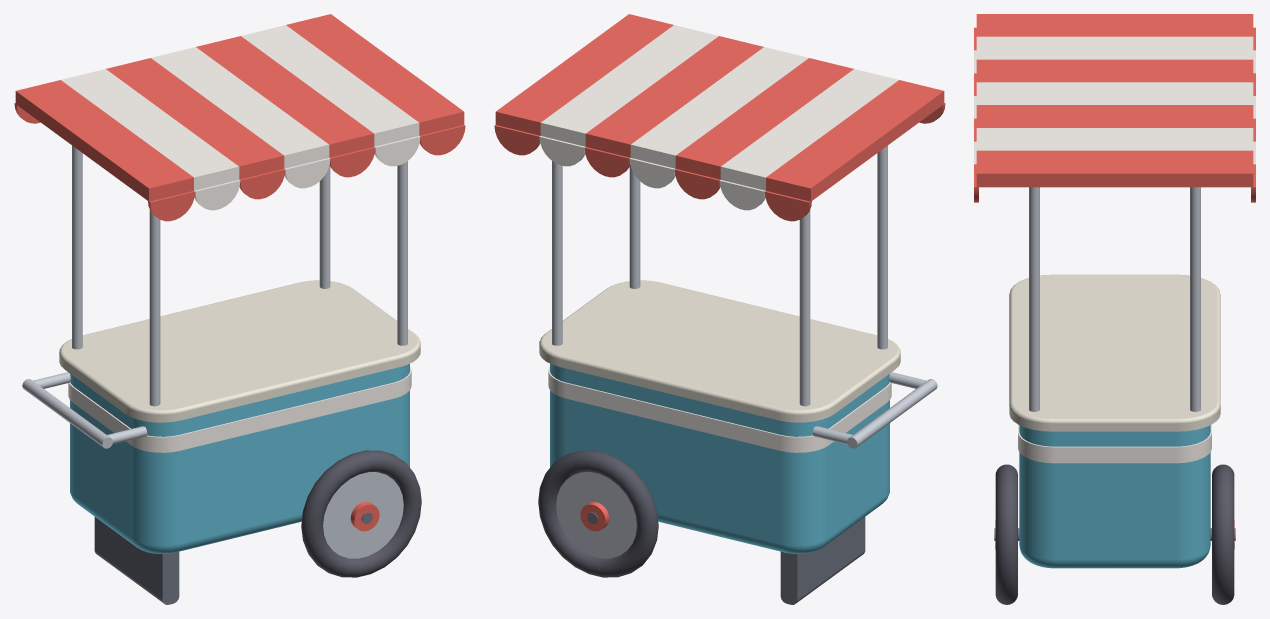
Rendered from TacoCart.glb.
3 views of the same model, side by side, from view 1: azimuth 30°, elevation 25°; view 2: azimuth 150°, elevation 25°; view 3: azimuth 270°, elevation 25° (orthographic). The views are drawn at different scales.
Visible parts, largest first — view 1: cartBody, awningRed (×8), counterTop, awningWhite (×7), metalLight (×6), wheelGrey, metalDark; view 2: cartBody, awningRed (×8), counterTop, awningWhite (×7), metalLight (×6), wheelGrey, metalDark; view 3: awningRed (×4), counterTop, cartBody, awningWhite (×4), wheelGrey (×2), metalLight (×2).
Part boxes in pixels (<box>): cartBody: <box>70,363,409,553</box>; awningRed (×8): <box>15,14,465,221</box>; counterTop: <box>59,280,420,422</box>; awningWhite (×7): <box>61,25,420,452</box>; metalLight (×6): <box>22,145,407,558</box>; wheelGrey: <box>301,450,421,577</box>; metalDark: <box>94,517,179,604</box>; cartBody: <box>550,363,889,553</box>; awningRed (×8): <box>494,14,944,221</box>; counterTop: <box>539,280,900,422</box>; awningWhite (×7): <box>539,25,898,452</box>; metalLight (×6): <box>552,145,937,558</box>; wheelGrey: <box>538,450,658,577</box>; metalDark: <box>780,517,865,604</box>; awningRed (×4): <box>976,14,1253,187</box>; counterTop: <box>1009,274,1220,431</box>; cartBody: <box>1019,425,1210,568</box>; awningWhite (×4): <box>976,36,1253,463</box>; wheelGrey (×2): <box>995,464,1234,604</box>; metalLight (×2): <box>1029,187,1200,411</box>.
Size of the model in its own units: 1.6 by 2.06 by 1.12.
